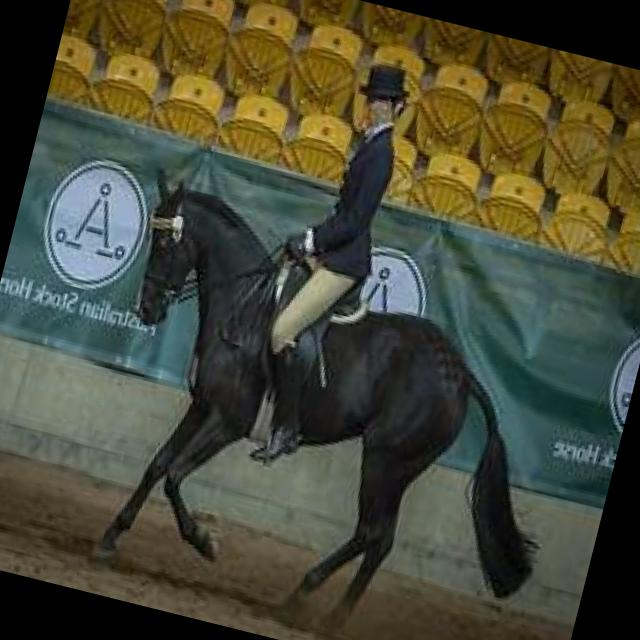animal: (0, 149, 631, 640)
